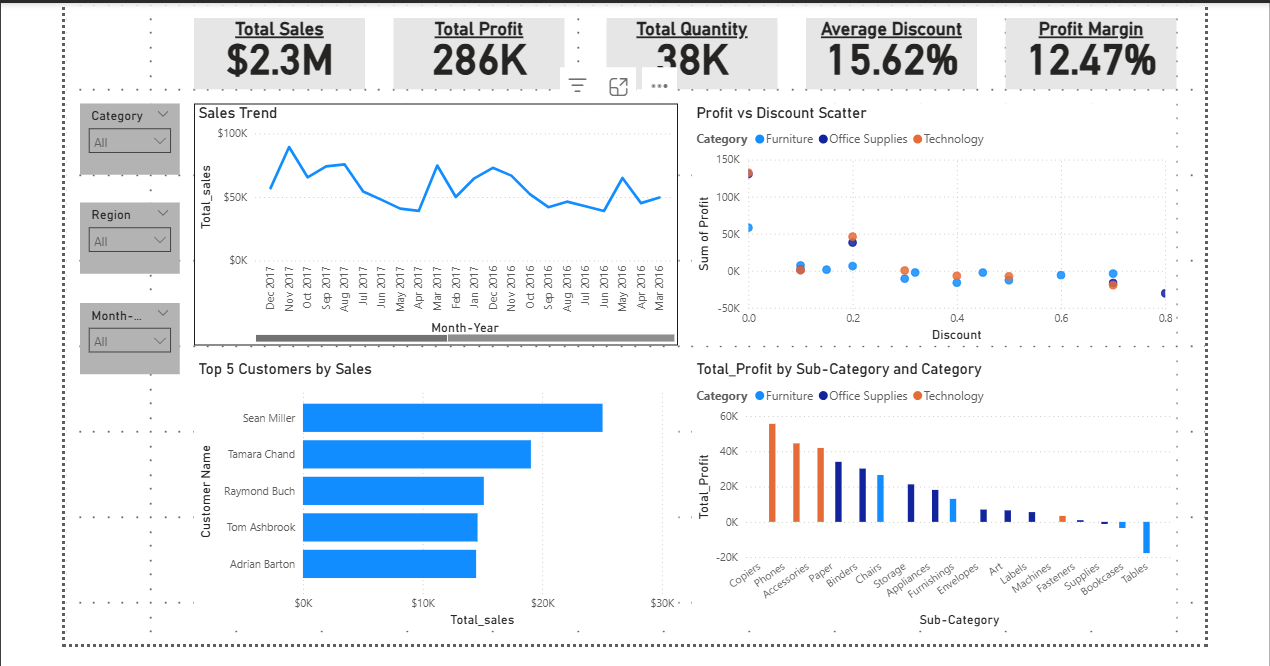

Layout of this report page (visuals, bound fields, positions):
{"tool":"powerbi","page":{"name":"Executive Summary","canvas":[1280,720],"ordinal":6},"visuals":[{"type":"card","title":"Total Sales","fields":{"Values":["Fact_Sales.Total_sales"]},"box":[144,16,192,80],"z":0},{"type":"card","title":"Total Profit","fields":{"Values":["Fact_Sales.Total_Profit"]},"box":[368,16,192,80],"z":1000},{"type":"card","title":"Total Quantity","fields":{"Values":["Fact_Sales.Total_Quantity"]},"box":[608,16,192,80],"z":2000},{"type":"card","title":"Average Discount","fields":{"Values":["Fact_Sales.Avg Discount"]},"box":[832,16,192,80],"z":3000},{"type":"card","title":"Profit Margin","fields":{"Values":["Fact_Sales.Profit Margin"]},"box":[1056,16,192,80],"z":4000},{"type":"lineChart","title":"Sales Trend","fields":{"Category":["Dim_Date.Month-Year"],"Y":["Fact_Sales.Total_sales"]},"box":[144,112,544,272],"z":5000},{"type":"scatterChart","title":" Profit vs Discount Scatter","fields":{"X":["Fact_Sales.Discount"],"Y":["Fact_Sales.Profit"],"Series":["Dim_Product.Category"]},"box":[704,112,544,272],"z":6000},{"type":"clusteredBarChart","title":"Top 5 Customers by Sales","fields":{"Y":["Fact_Sales.Total_sales"],"Category":["Dim_Customer.Customer Name"]},"box":[144,400,544,304],"z":7000},{"type":"clusteredColumnChart","fields":{"Category":["Dim_Product.Sub-Category"],"Y":["Fact_Sales.Total_Profit"],"Series":["Dim_Product.Category"]},"box":[704,400,544,304],"z":8000},{"type":"slicer","fields":{"Values":["Dim_Product.Category"]},"box":[16,112,112,80],"z":9000},{"type":"slicer","fields":{"Values":["Dim_Region.Region"]},"box":[16,224,112,80],"z":10000},{"type":"slicer","fields":{"Values":["Dim_Date.Month-Year"]},"box":[16,336,112,80],"z":11000}]}

Visuals, with their boxes on the page's 1280x720 design canvas (x1, y1, x2, y2). These are canvas units, not pixel positions in the 1270x666 screenshot, which may show the page scaled, cropped or inside an application window:
"Total Sales" card: BBox(144, 16, 336, 96)
"Total Profit" card: BBox(368, 16, 560, 96)
"Total Quantity" card: BBox(608, 16, 800, 96)
"Average Discount" card: BBox(832, 16, 1024, 96)
"Profit Margin" card: BBox(1056, 16, 1248, 96)
"Sales Trend" lineChart: BBox(144, 112, 688, 384)
" Profit vs Discount Scatter" scatterChart: BBox(704, 112, 1248, 384)
"Top 5 Customers by Sales" clusteredBarChart: BBox(144, 400, 688, 704)
clusteredColumnChart - Dim_Product.Sub-Category x Fact_Sales.Total_Profit: BBox(704, 400, 1248, 704)
slicer - Dim_Product.Category: BBox(16, 112, 128, 192)
slicer - Dim_Region.Region: BBox(16, 224, 128, 304)
slicer - Dim_Date.Month-Year: BBox(16, 336, 128, 416)
